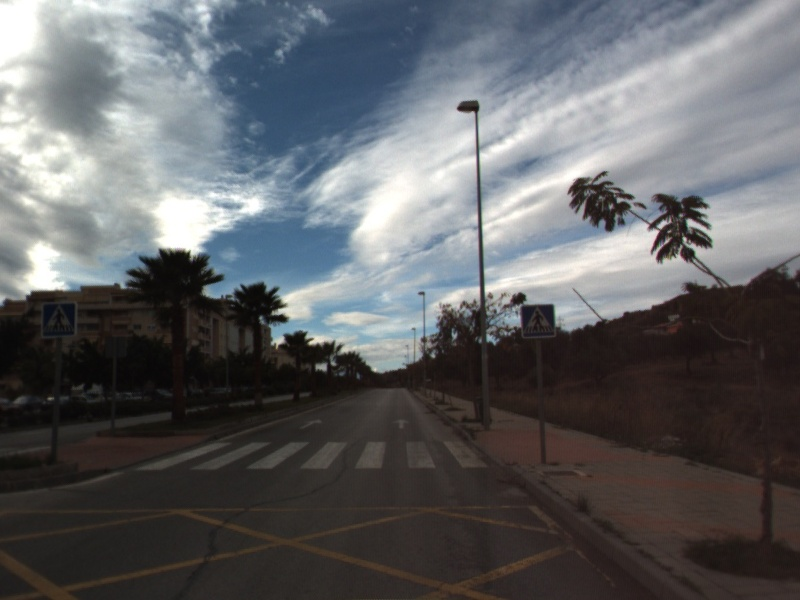STRAIGHT: (298, 417, 324, 431), (391, 417, 411, 431)
